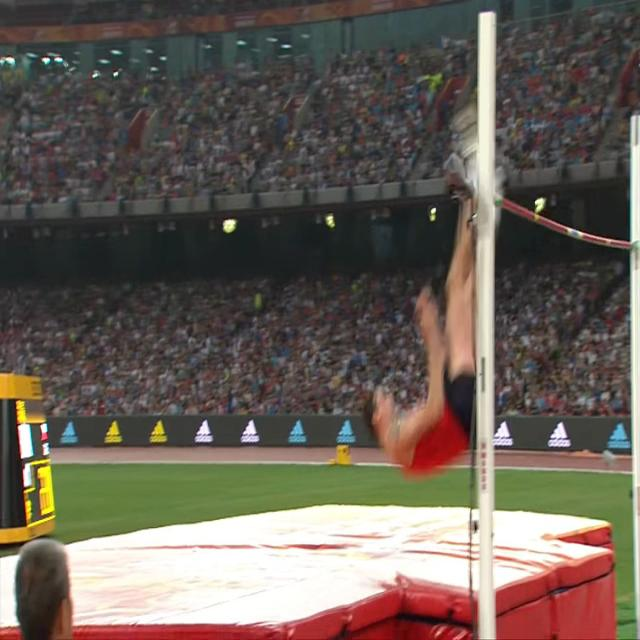land: (367, 105, 503, 475)
